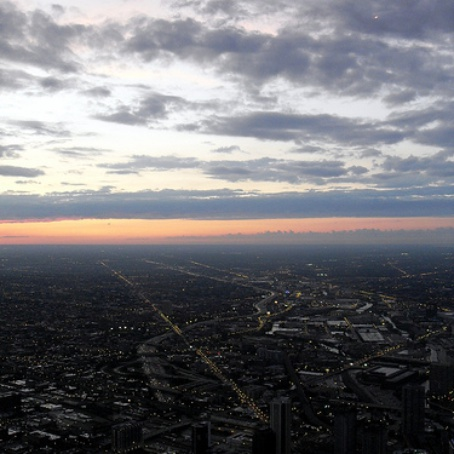sky: (9, 1, 450, 226)
